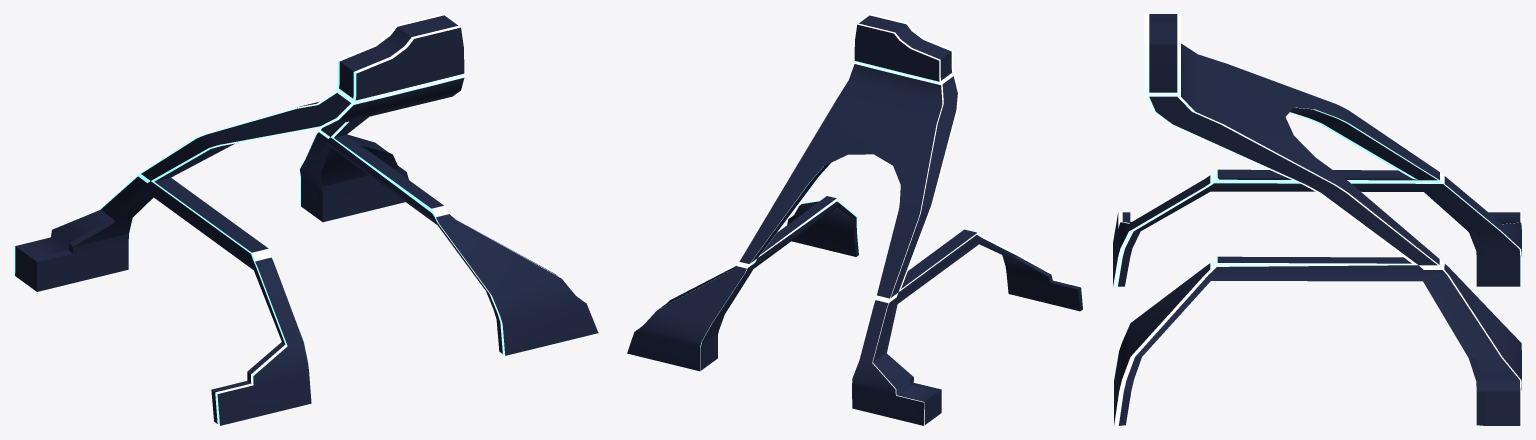
File: TowerTunnel_1.fbx
3 views of the same model, side by side, from view 1: azimuth 30°, elevation 25°; view 2: azimuth 150°, elevation 25°; view 3: azimuth 270°, elevation 25° (orthographic). The views are drawn at different scales.
Visible parts, largest first — view 1: TowerTunnel_1; view 2: TowerTunnel_1; view 3: TowerTunnel_1.
Part boxes in pixels (x1,y1,x2,y2): TowerTunnel_1: (14, 14, 598, 425); TowerTunnel_1: (627, 14, 1084, 425); TowerTunnel_1: (1113, 14, 1521, 425).
Size of the model in its own units: 2012 by 1645 by 1891.
